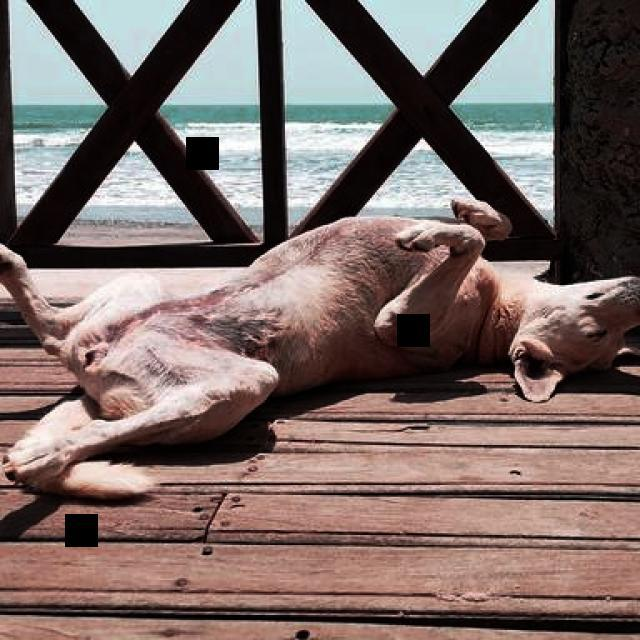adult_dog: (1, 189, 640, 506)
